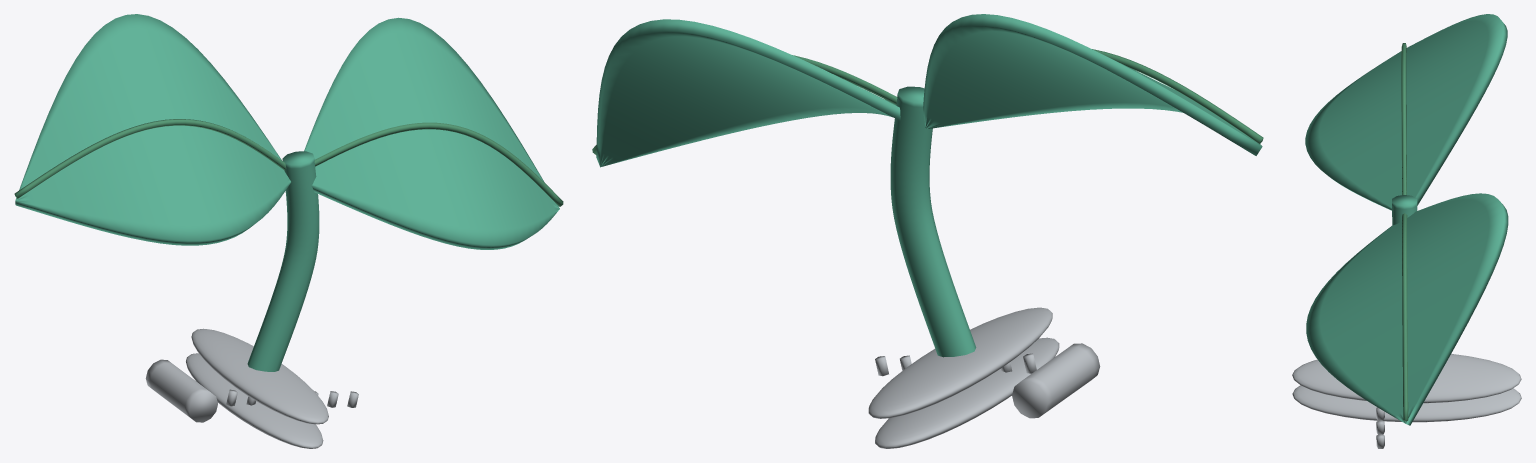
File: Feminine-twin-braids--cap-sprout.glb
3 views of the same model, side by side, from view 1: azimuth 30°, elevation 25°; view 2: azimuth 150°, elevation 25°; view 3: azimuth 270°, elevation 25° (orthographic). The views are drawn at different scales.
Parts seen in each view (by area): view 1: 226 extra / Accessory / mint226, 226 extra / Sprout / clip silver235, 226 extra / Sprout / leaf vein235; view 2: 226 extra / Accessory / mint226, 226 extra / Sprout / clip silver235, 226 extra / Sprout / leaf vein235; view 3: 226 extra / Accessory / mint226, 226 extra / Sprout / clip silver235, 226 extra / Sprout / leaf vein235.
Boxes of the visible parts, x1,y1,x2,y2 form: 226 extra / Accessory / mint226: (15, 14, 559, 371); 226 extra / Sprout / clip silver235: (145, 328, 358, 448); 226 extra / Sprout / leaf vein235: (14, 119, 563, 206); 226 extra / Accessory / mint226: (596, 14, 1262, 357); 226 extra / Sprout / clip silver235: (868, 307, 1100, 448); 226 extra / Sprout / leaf vein235: (592, 49, 1263, 155); 226 extra / Accessory / mint226: (1305, 14, 1508, 425); 226 extra / Sprout / clip silver235: (1292, 354, 1521, 448); 226 extra / Sprout / leaf vein235: (1401, 43, 1408, 421).
Bounding box in the file's own units: 0.2637 × 0.1757 × 0.104.
